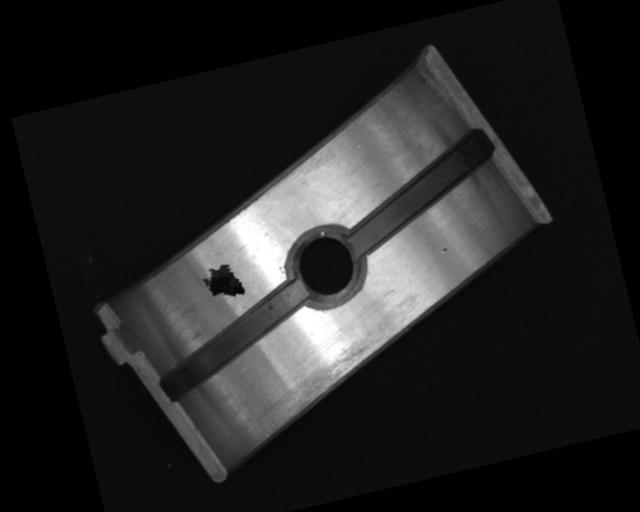blot: (198, 260, 248, 305)
bruise: (439, 245, 450, 255)
gap: (332, 128, 509, 258), (144, 280, 323, 402)
hole: (280, 219, 371, 312)
scratch: (244, 333, 405, 441)
